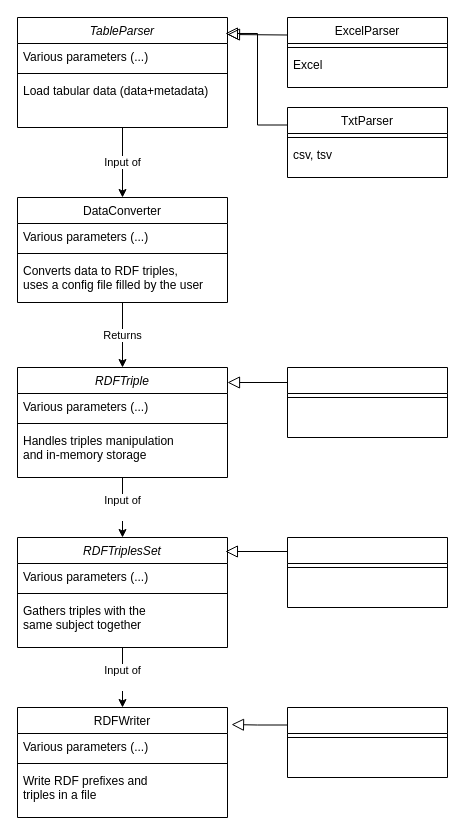
Some shapes in this 465 by 835 pixel diagram are drawn without their labels. The centre of each missing label's shape, as x and y in pixels:
"TurtleTriple" belongs at [367,402].
"TurtleTripleSet" belongs at [367,572].
"TurtleWriter" belongs at [367,742].
